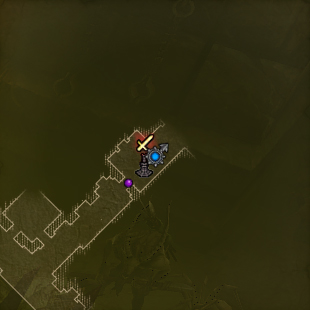PowerPylon: (135, 135, 156, 175)
